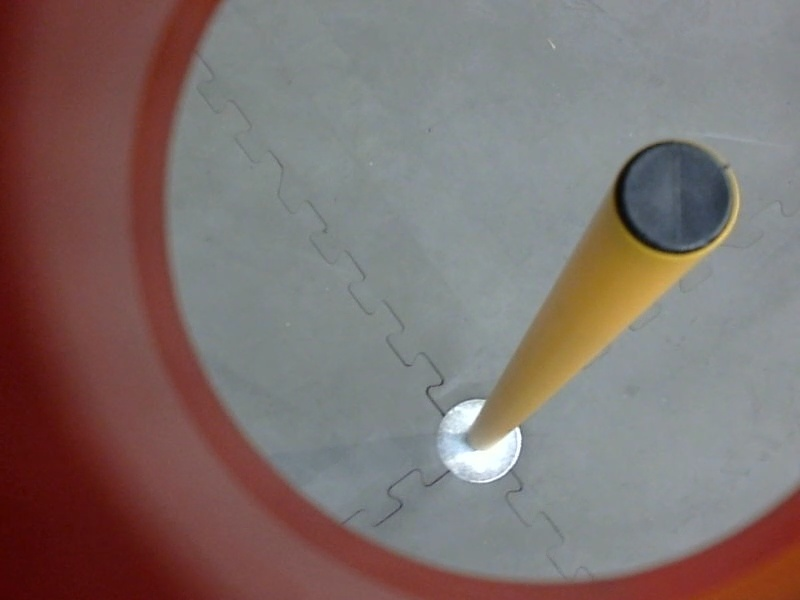tip: (610, 131, 749, 268)
